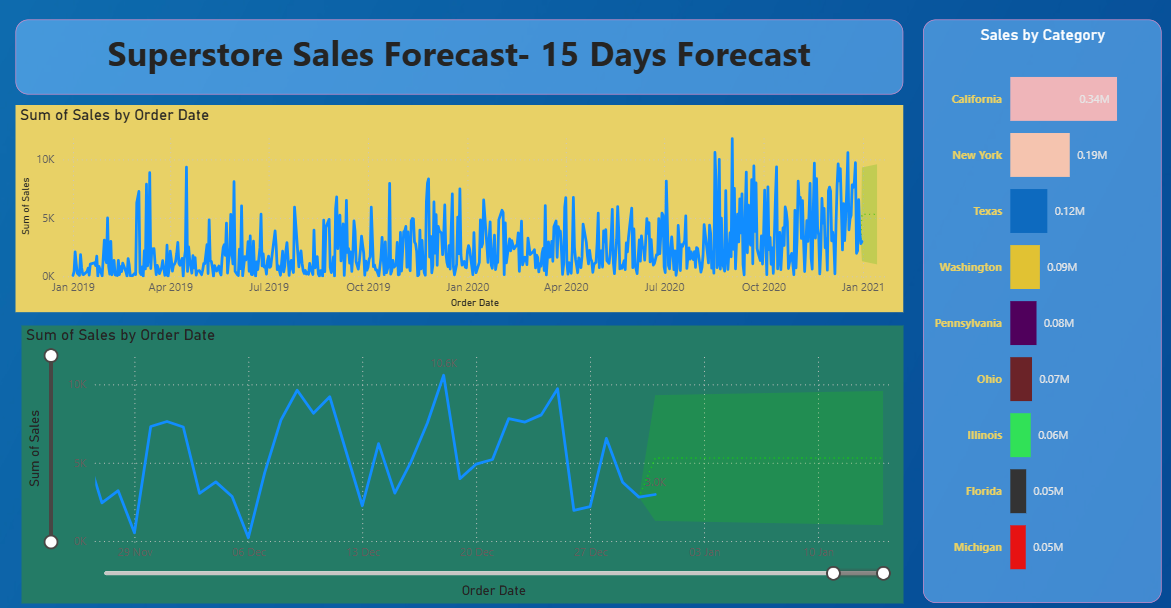

This screenshot's page, from the dashboard's own definition file:
{"tool":"powerbi","page":{"name":"Page 2","canvas":[1280,720],"ordinal":1},"visuals":[{"type":"lineChart","fields":{"Y":["Sum(SuperStore_Sales_Dataset.Sales)"],"Category":["SuperStore_Sales_Dataset.Order Date"]},"box":[21.1,169.2,962.9,224.5],"z":0},{"type":"lineChart","fields":{"Y":["Sum(SuperStore_Sales_Dataset.Sales)"],"Category":["SuperStore_Sales_Dataset.Order Date"]},"box":[28.3,408.2,956.2,300.5],"z":1000},{"type":"clusteredBarChart","title":"Sales by Category","fields":{"Category":["SuperStore_Sales_Dataset.State"],"Y":["Sum(SuperStore_Sales_Dataset.Sales)"]},"box":[1005.2,76.4,258.6,632.7],"z":2000},{"type":"textbox","box":[21.1,76.4,962.9,81.3],"z":2001}]}

Visuals, with their boxes on the page's 1280x720 design canvas (x1, y1, x2, y2). These are canvas units, not pixel positions in the 1171x608 screenshot, which may show the page scaled, cropped or inside an application window:
lineChart - Sum(SuperStore_Sales_Dataset.Sales) x SuperStore_Sales_Dataset.Order Date: (21, 169, 984, 394)
lineChart - Sum(SuperStore_Sales_Dataset.Sales) x SuperStore_Sales_Dataset.Order Date: (28, 408, 984, 709)
"Sales by Category" clusteredBarChart: (1005, 76, 1264, 709)
textbox: (21, 76, 984, 158)
